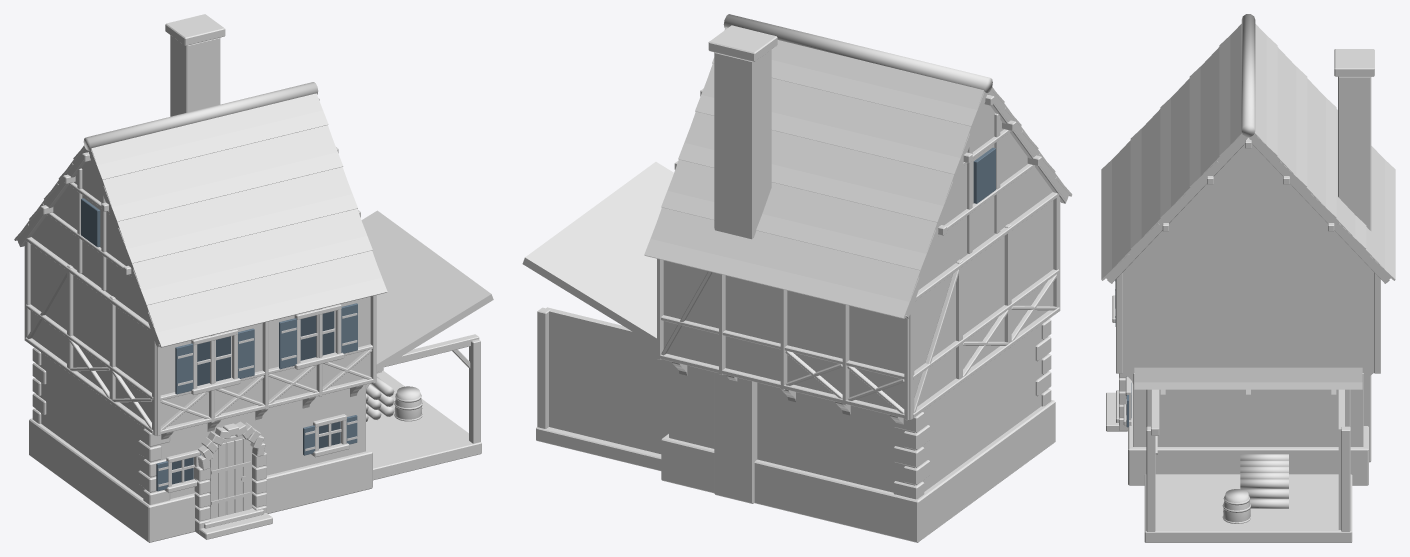
File: col_11_remise_bucher.fbx
3 renders of one model, left to right at view 1: azimuth 30°, elevation 25°; view 2: azimuth 150°, elevation 25°; view 3: azimuth 270°, elevation 25°, orthographic. The views are drawn at different scales.
Parts seen in each view (by area): view 1: col_11_remise_bucher_LOD0; view 2: col_11_remise_bucher_LOD0; view 3: col_11_remise_bucher_LOD0.
Boxes of the visible parts, bbox=[...] form: col_11_remise_bucher_LOD0: bbox=[14, 14, 493, 542]; col_11_remise_bucher_LOD0: bbox=[522, 14, 1072, 542]; col_11_remise_bucher_LOD0: bbox=[1101, 14, 1395, 542].
Size of what is drawn, in the model's own units: 8.84 by 9.47 by 6.39.
